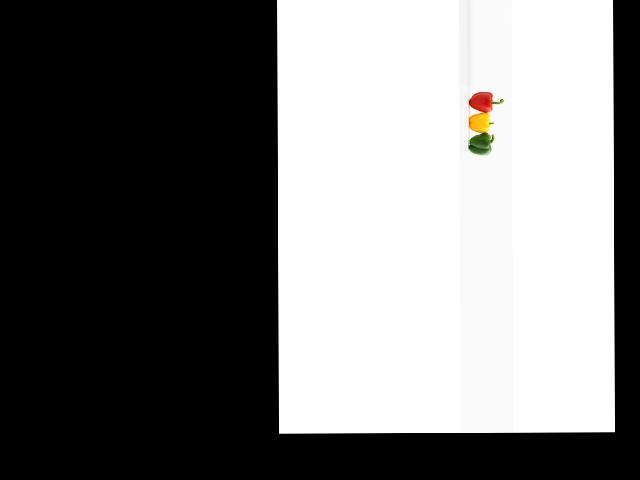bell_pepper: (465, 85, 506, 114)
